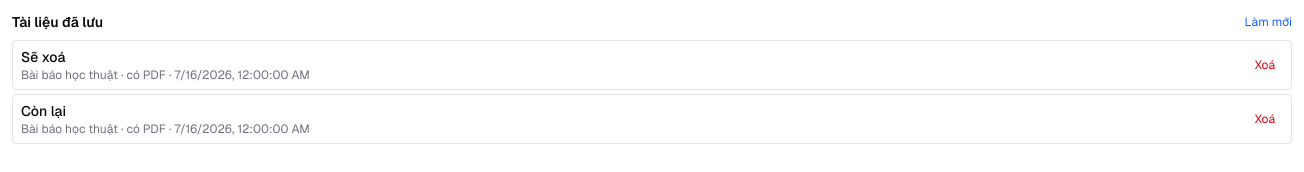
Test case: DocumentList — TanStack Query (FE-1.2) › xoá → gọi DELETE rồi invalidate/refetch danh sách (item biến mất)
Click the button with aria-label "Xoá Sẽ xoá" at {"x": 1265, "y": 65}, box [1247,53,1283,77]
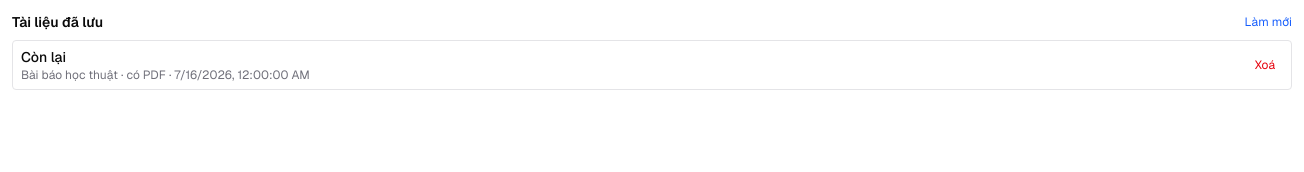
Expected: the text "Còn lại" is shown, [21,48,66,66]
Expected: the link "Sẽ xoá" is gone
